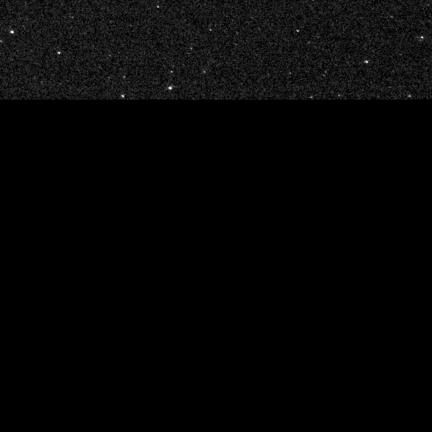blob: (168, 87, 172, 90), (11, 31, 15, 34), (122, 95, 125, 99), (57, 52, 61, 55), (123, 76, 126, 79), (297, 30, 300, 33), (365, 61, 368, 63)
